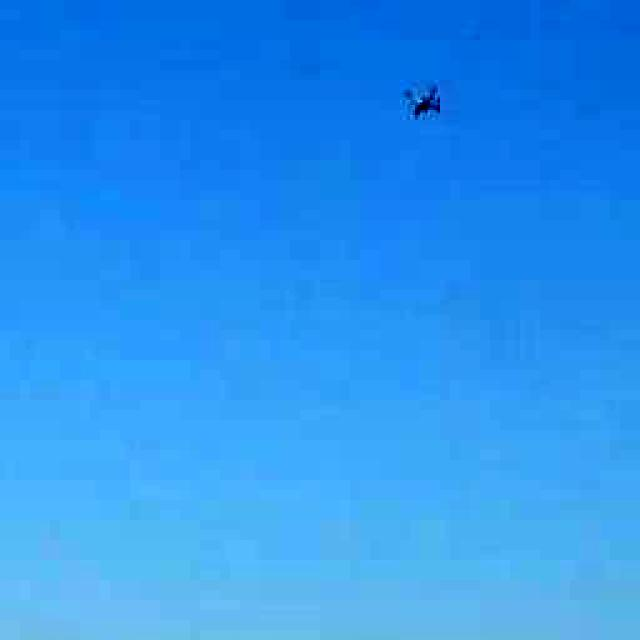bird: (382, 61, 470, 139)
